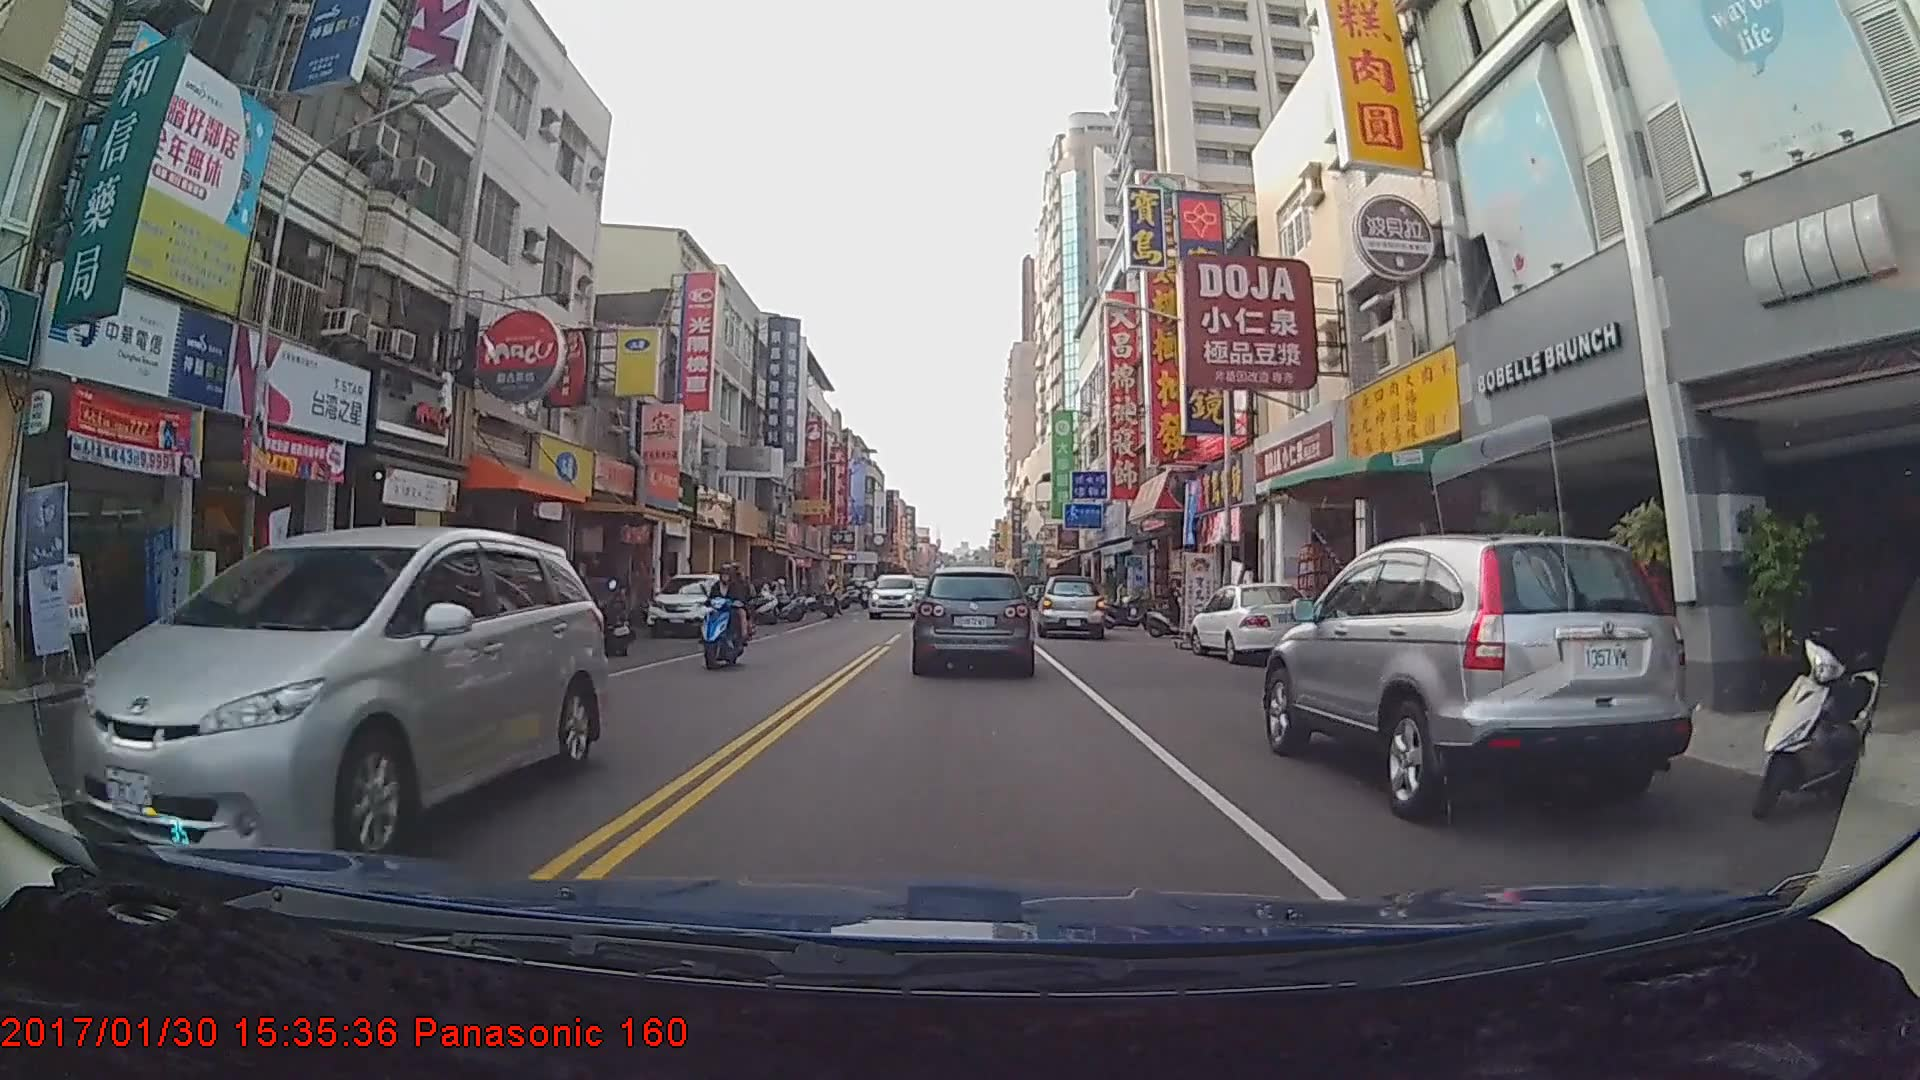rider: (691, 562, 748, 674), (1145, 580, 1201, 640)
vehicle: (66, 524, 611, 870), (1261, 531, 1682, 821), (913, 565, 1033, 674), (1185, 582, 1318, 664), (644, 572, 747, 638), (1036, 574, 1105, 639), (866, 573, 921, 620)
